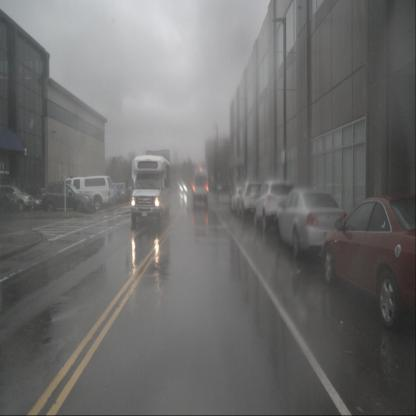vehicle-bus-rigid: (131, 154, 171, 225)
vehicle-car: (320, 196, 416, 332), (276, 189, 350, 258), (253, 180, 296, 233), (340, 182, 386, 223), (41, 182, 94, 215), (307, 182, 347, 218), (236, 182, 266, 222), (0, 185, 34, 212), (6, 188, 43, 212), (93, 182, 122, 205), (192, 169, 209, 207), (105, 183, 132, 204), (231, 186, 249, 216), (0, 187, 19, 215)
vehicle-truck: (60, 176, 115, 211)
